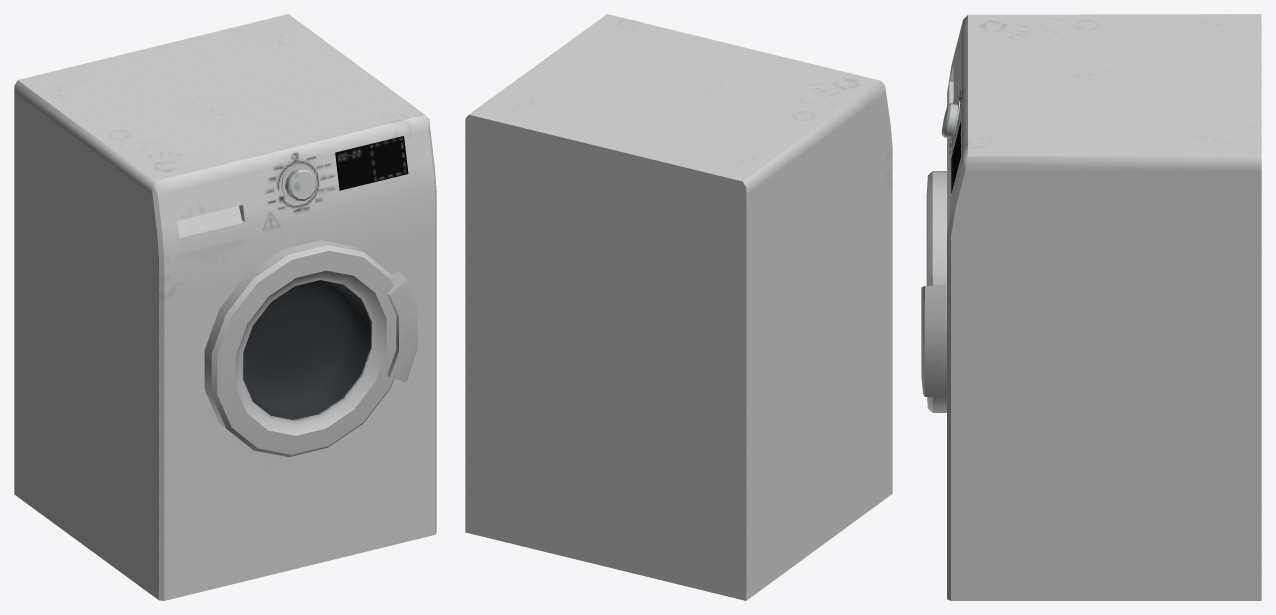
File: washing-machine-a7fc42.glb
The picture shows the model from 3 angles, left to right: view 1: azimuth 30°, elevation 25°; view 2: azimuth 150°, elevation 25°; view 3: azimuth 270°, elevation 25°; orthographic projection. The views are drawn at different scales.
Visible parts, largest first — view 1: PropMesh; view 2: PropMesh; view 3: PropMesh.
Part boxes in pixels (x1=…): PropMesh: x1=14, y1=14, x2=436, y2=600; PropMesh: x1=465, y1=14, x2=892, y2=600; PropMesh: x1=921, y1=14, x2=1261, y2=600.
Bounding box in the file's own units: 0.59 × 0.84 × 0.5843.
Materials: 1 (1 with a texture image).
